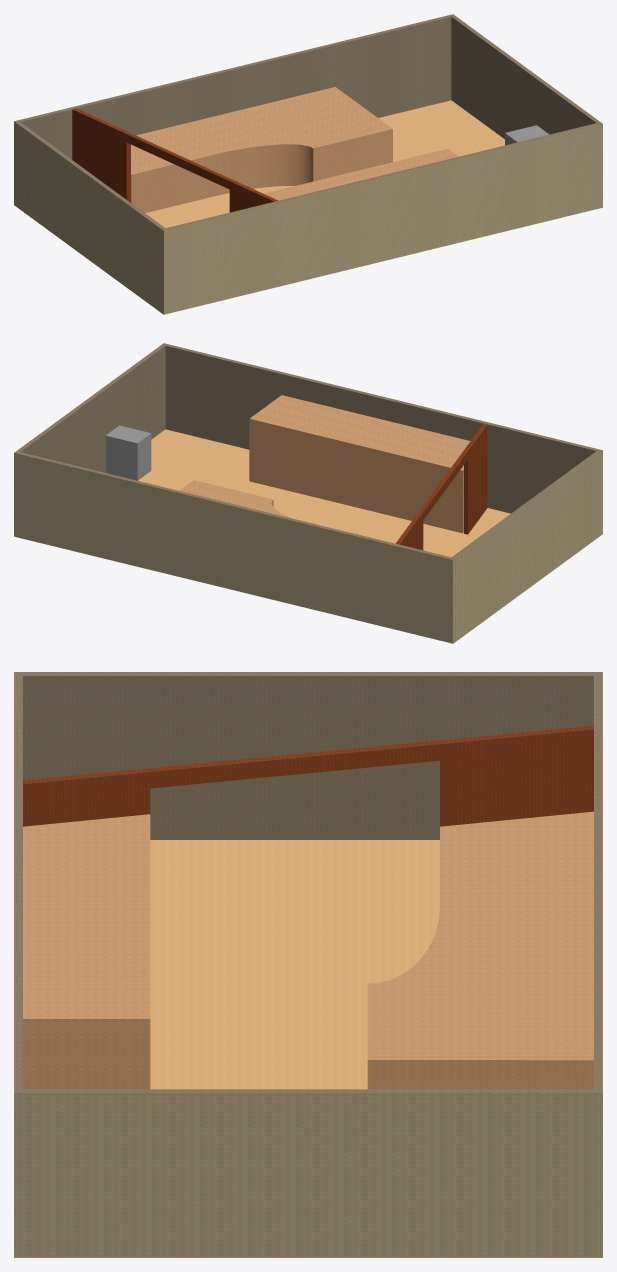
The model's file is sim_env_new.DAE.
3 renders of one model, top to bottom at view 1: azimuth 30°, elevation 25°; view 2: azimuth 150°, elevation 25°; view 3: azimuth 270°, elevation 25°, orthographic. The views are drawn at different scales.
Parts seen in each view (by area): view 1: stitch_result_stitchFBXASC032all_ncl1_1-Pivot, stitch_result_stitchFBXASC032all-Pivot, stitch_result_stitchFBXASC032all_ncl1_4-Pivot, stitch_result_stitchFBXASC032all_ncl1_6-Pivot, stitch_result_stitchFBXASC032all_ncl1_2-Pivot, stitch_result_stitchFBXASC032all_ncl1_3-Pivot, stitch_result_stitchFBXASC032all_ncl1_5-Pivot; view 2: stitch_result_stitchFBXASC032all_ncl1_1-Pivot, stitch_result_stitchFBXASC032all-Pivot, stitch_result_stitchFBXASC032all_ncl1_3-Pivot, stitch_result_stitchFBXASC032all_ncl1_6-Pivot, stitch_result_stitchFBXASC032all_ncl1_2-Pivot, stitch_result_stitchFBXASC032all_ncl1_5-Pivot, stitch_result_stitchFBXASC032all_ncl1_4-Pivot; view 3: stitch_result_stitchFBXASC032all_ncl1_1-Pivot, stitch_result_stitchFBXASC032all-Pivot, stitch_result_stitchFBXASC032all_ncl1_6-Pivot, stitch_result_stitchFBXASC032all_ncl1_4-Pivot, stitch_result_stitchFBXASC032all_ncl1_3-Pivot, stitch_result_stitchFBXASC032all_ncl1_2-Pivot.
Part boxes in pixels (left/top/right/bottom): stitch_result_stitchFBXASC032all_ncl1_1-Pivot: left=14, top=121, right=602, bottom=314; stitch_result_stitchFBXASC032all-Pivot: left=14, top=14, right=602, bottom=230; stitch_result_stitchFBXASC032all_ncl1_4-Pivot: left=131, top=87, right=392, bottom=213; stitch_result_stitchFBXASC032all_ncl1_6-Pivot: left=14, top=100, right=602, bottom=314; stitch_result_stitchFBXASC032all_ncl1_2-Pivot: left=72, top=108, right=277, bottom=212; stitch_result_stitchFBXASC032all_ncl1_3-Pivot: left=264, top=148, right=458, bottom=200; stitch_result_stitchFBXASC032all_ncl1_5-Pivot: left=505, top=125, right=549, bottom=145; stitch_result_stitchFBXASC032all_ncl1_1-Pivot: left=14, top=450, right=602, bottom=643; stitch_result_stitchFBXASC032all-Pivot: left=14, top=343, right=602, bottom=559; stitch_result_stitchFBXASC032all_ncl1_3-Pivot: left=249, top=395, right=470, bottom=533; stitch_result_stitchFBXASC032all_ncl1_6-Pivot: left=14, top=429, right=602, bottom=643; stitch_result_stitchFBXASC032all_ncl1_2-Pivot: left=396, top=423, right=487, bottom=550; stitch_result_stitchFBXASC032all_ncl1_5-Pivot: left=105, top=425, right=151, bottom=480; stitch_result_stitchFBXASC032all_ncl1_4-Pivot: left=179, top=480, right=290, bottom=517; stitch_result_stitchFBXASC032all_ncl1_1-Pivot: left=14, top=672, right=602, bottom=1257; stitch_result_stitchFBXASC032all-Pivot: left=14, top=672, right=602, bottom=1092; stitch_result_stitchFBXASC032all_ncl1_6-Pivot: left=14, top=840, right=602, bottom=1257; stitch_result_stitchFBXASC032all_ncl1_4-Pivot: left=367, top=811, right=593, bottom=1089; stitch_result_stitchFBXASC032all_ncl1_3-Pivot: left=23, top=814, right=150, bottom=1089; stitch_result_stitchFBXASC032all_ncl1_2-Pivot: left=23, top=725, right=593, bottom=826.
Bounding box in the file's own units: 11 × 6.5 × 2.01.
